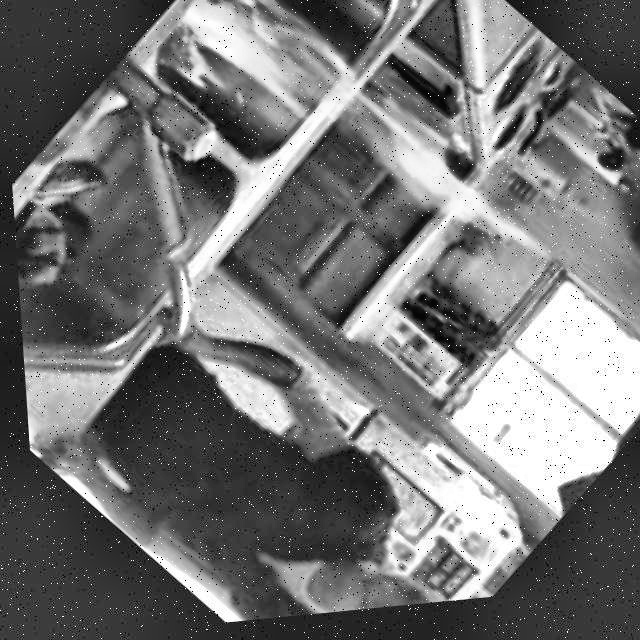Fire: (150, 0, 566, 362), (149, 0, 564, 361)
